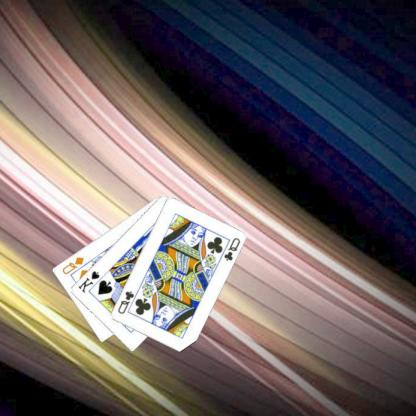KS: (76, 268, 102, 294)
QC: (116, 288, 137, 316), (222, 235, 243, 262)
QD: (61, 254, 87, 276)
